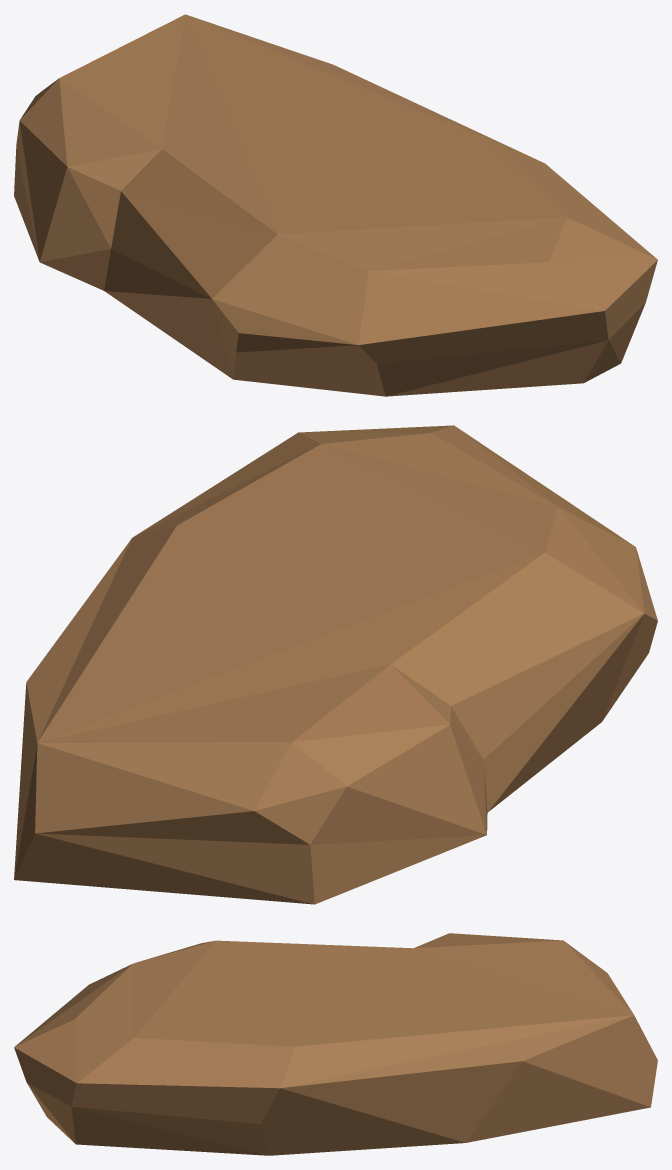
The model's file is roccia_bella1.glb.
The picture shows the model from 3 angles, top to bottom: view 1: azimuth 30°, elevation 25°; view 2: azimuth 150°, elevation 25°; view 3: azimuth 270°, elevation 25°; orthographic projection. The views are drawn at different scales.
Visible parts, largest first — view 1: EM_Stone8_LOD1; view 2: EM_Stone8_LOD1; view 3: EM_Stone8_LOD1.
Part boxes in pixels (x1,y1,x2,y2): EM_Stone8_LOD1: (14,14,657,396); EM_Stone8_LOD1: (14,425,657,904); EM_Stone8_LOD1: (14,933,657,1155).
Bounding box in the file's own units: 3.83 × 1.24 × 6.59.
1 material, 1 textured.
